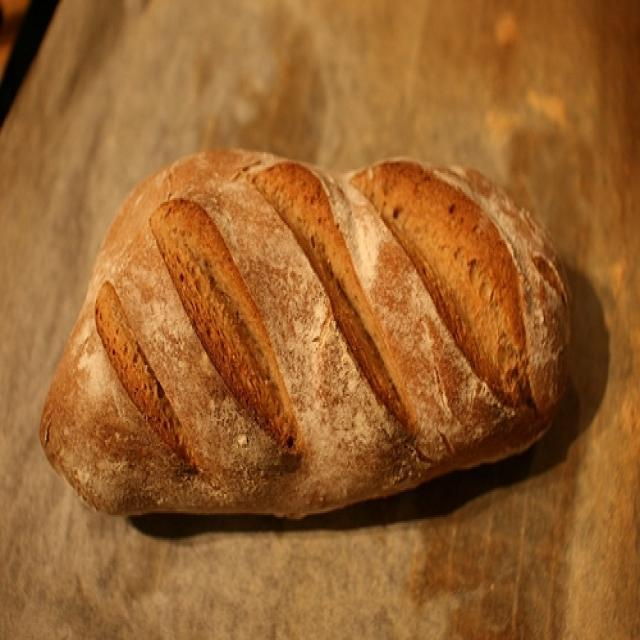Bread: (48, 134, 580, 495)
